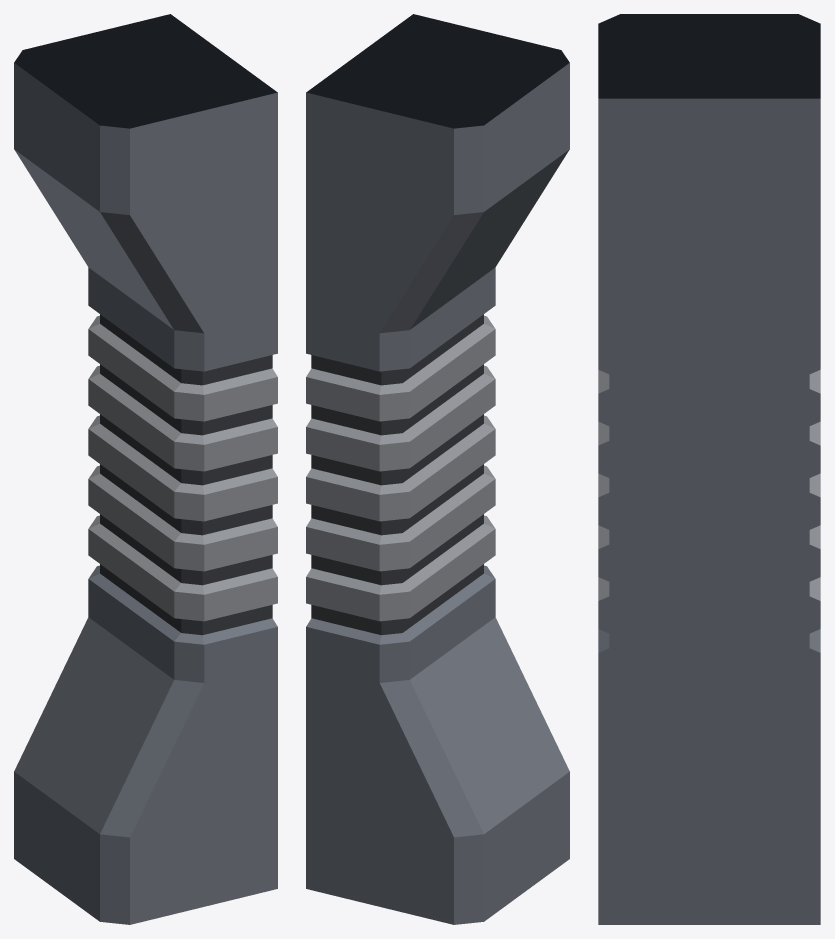
File: sm_Column_A_01.fbx
The picture shows the model from 3 angles, left to right: view 1: azimuth 30°, elevation 25°; view 2: azimuth 150°, elevation 25°; view 3: azimuth 270°, elevation 25°; orthographic projection. The views are drawn at different scales.
Parts seen in each view (by area): view 1: Column_A_01; view 2: Column_A_01; view 3: Column_A_01.
Boxes of the visible parts, box(x1,y1,x2,y2) form: Column_A_01: box(14, 14, 277, 924); Column_A_01: box(306, 14, 569, 924); Column_A_01: box(598, 14, 820, 924).
Size of the model in its own units: 50 by 205 by 45.
